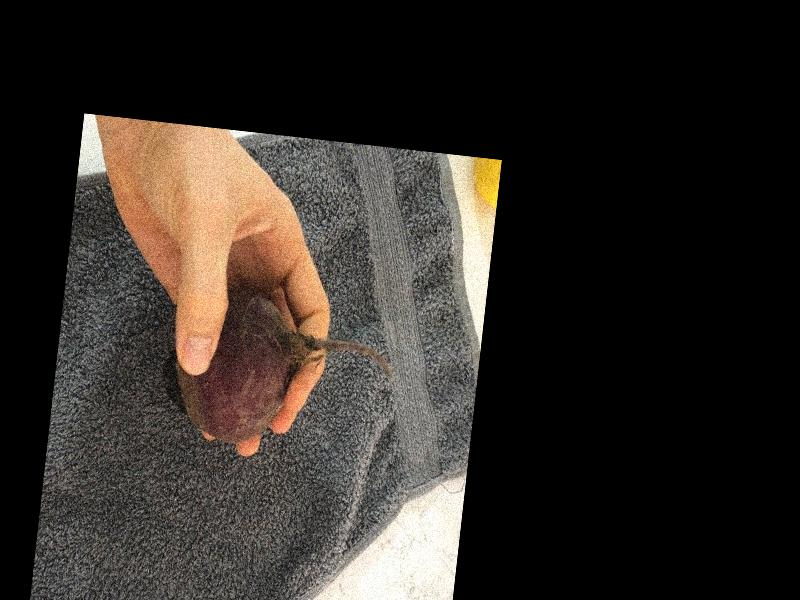Beet: (156, 282, 401, 459)
